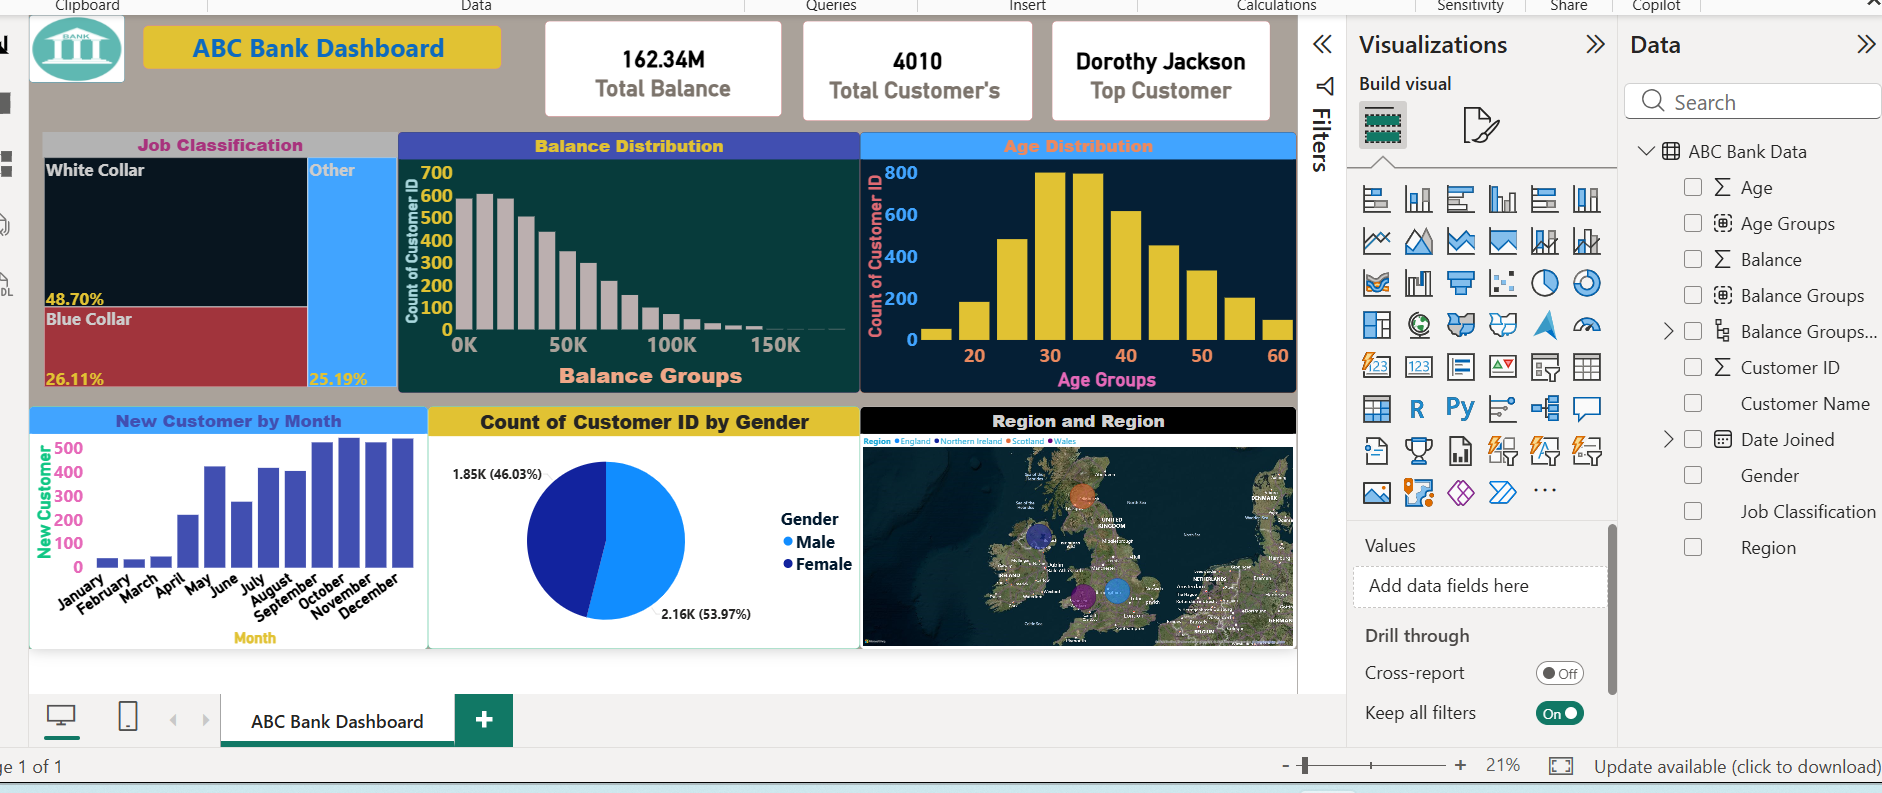

The dashboard page shown, as its layout file describes it:
{"tool":"powerbi","page":{"name":"ABC Bank Dashboard ","canvas":[4000,2000],"ordinal":0},"visuals":[{"type":"clusteredColumnChart","title":"Age Distribution","fields":{"Category":["ABC Bank Data.Age Groups"],"Y":["CountNonNull(ABC Bank Data.Customer ID)"]},"box":[2621.5,369.1,1377,823.3],"z":0},{"type":"clusteredColumnChart","title":"Balance Distribution","fields":{"Category":["ABC Bank Data.Balance Groups"],"Y":["CountNonNull(ABC Bank Data.Customer ID)"]},"box":[1164,369.1,1457.4,823.3],"z":1000},{"type":"pieChart","fields":{"Category":["ABC Bank Data.Gender"],"Y":["CountNonNull(ABC Bank Data.Customer ID)"]},"box":[1259.4,1236.9,1362.9,764.6],"z":2000},{"type":"card","fields":{"Values":["Sum(ABC Bank Data.Balance)"]},"box":[1628.2,18,746.6,301.4],"z":3000},{"type":"card","fields":{"Values":["CountNonNull(ABC Bank Data.Customer ID)"]},"box":[2442.3,18,724.2,314.8],"z":4000},{"type":"card","fields":{"Values":["Min(ABC Bank Data.Customer Name)"]},"box":[3225,18,688.2,314.8],"z":5000},{"type":"clusteredColumnChart","fields":{"Category":["ABC Bank Data.Date Joined.Variation.Date Hierarchy.Year","ABC Bank Data.Date Joined.Variation.Date Hierarchy.Quarter","ABC Bank Data.Date Joined.Variation.Date Hierarchy.Month","ABC Bank Data.Date Joined.Variation.Date Hierarchy.Day"],"Y":["CountNonNull(ABC Bank Data.Customer ID)"]},"box":[0,1192.4,1249.2,809.2],"z":6000},{"type":"treemap","title":"Job Classification ","fields":{"Group":["ABC Bank Data.Job Classification"],"Values":["CountNonNull(ABC Bank Data.Customer ID)"]},"box":[0,269.9,1164.9,809.6],"z":8000},{"type":"image","box":[91.2,17.6,120.6,117.6],"z":9000},{"type":"map","fields":{"Category":["ABC Bank Data.Region"],"Series":["ABC Bank Data.Region"]},"box":[2671.7,1236.9,1326.9,764.6],"z":10000},{"type":"textbox","box":[242.9,31.5,1313.4,139.4],"z":11000}]}

Visuals, with their boxes on the page's 4000x2000 design canvas (x1, y1, x2, y2). These are canvas units, not pixel positions in the 1882x793 screenshot, which may show the page scaled, cropped or inside an application window:
"Age Distribution" clusteredColumnChart: l=2622, t=369, r=3998, b=1192
"Balance Distribution" clusteredColumnChart: l=1164, t=369, r=2621, b=1192
pieChart - ABC Bank Data.Gender x CountNonNull(ABC Bank Data.Customer ID): l=1259, t=1237, r=2622, b=2002
card - Sum(ABC Bank Data.Balance): l=1628, t=18, r=2375, b=319
card - CountNonNull(ABC Bank Data.Customer ID): l=2442, t=18, r=3166, b=333
card - Min(ABC Bank Data.Customer Name): l=3225, t=18, r=3913, b=333
clusteredColumnChart - ABC Bank Data.Date Joined.Variation.Date Hierarchy.Year x ABC Bank Data.Date Joined.Variation.Date Hierarchy.Quarter: l=0, t=1192, r=1249, b=2002
"Job Classification " treemap: l=0, t=270, r=1165, b=1080
image: l=91, t=18, r=212, b=135
map - ABC Bank Data.Region x ABC Bank Data.Region: l=2672, t=1237, r=3999, b=2002
textbox: l=243, t=32, r=1556, b=171
